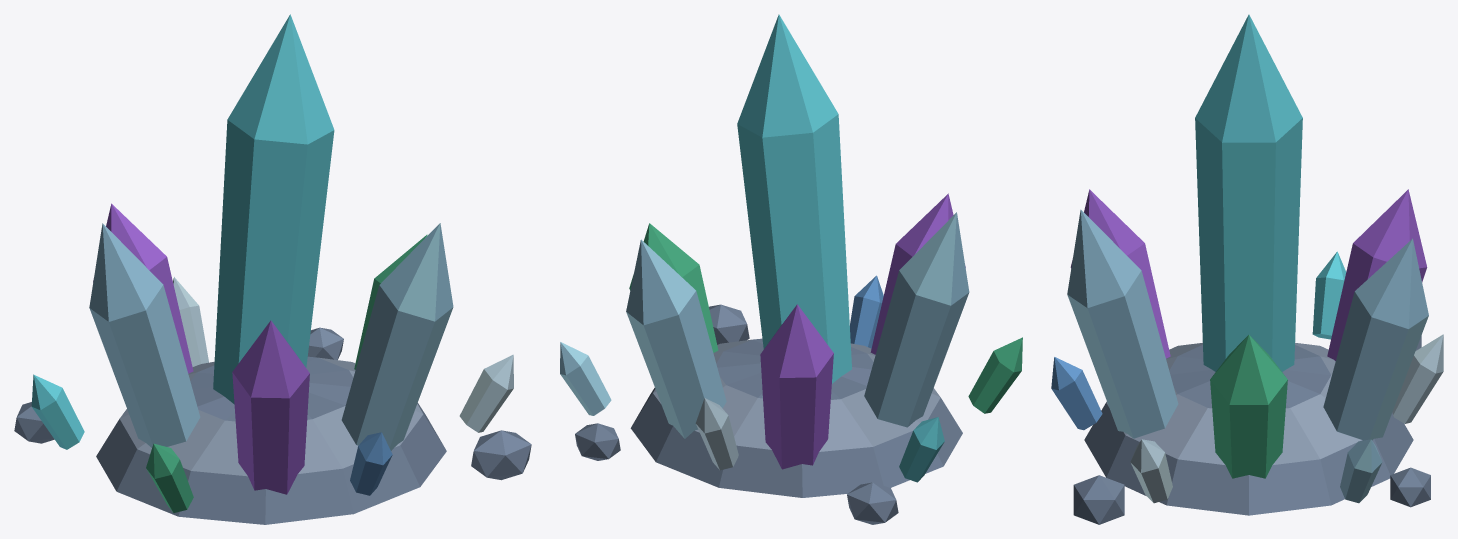
The model's file is Decor_IcePalace_Crystals.fbx.
The picture shows the model from 3 angles, left to right: view 1: azimuth 30°, elevation 25°; view 2: azimuth 150°, elevation 25°; view 3: azimuth 270°, elevation 25°; orthographic projection. The views are drawn at different scales.
Parts seen in each view (by area): view 1: Crystals_Body; view 2: Crystals_Body; view 3: Crystals_Body.
Boxes of the visible parts, <box> form: Crystals_Body: <box>14,14,531,524</box>; Crystals_Body: <box>560,14,1022,524</box>; Crystals_Body: <box>1051,14,1443,524</box>.
Size of the model in its own units: 12.6 by 14 by 11.2.
